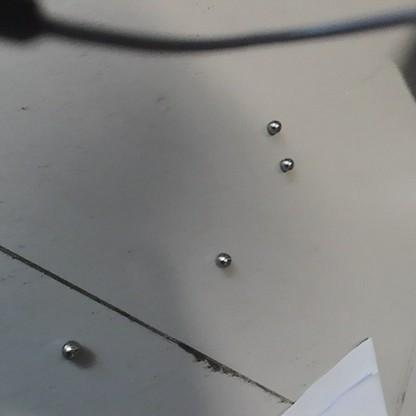ironball: (62, 340, 81, 361), (214, 250, 230, 268), (266, 119, 281, 133), (280, 156, 292, 173)
